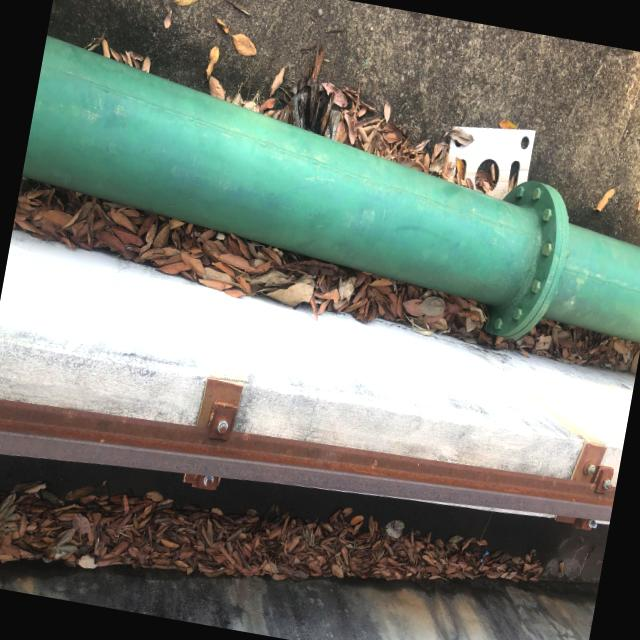gas: (7, 28, 640, 362)
